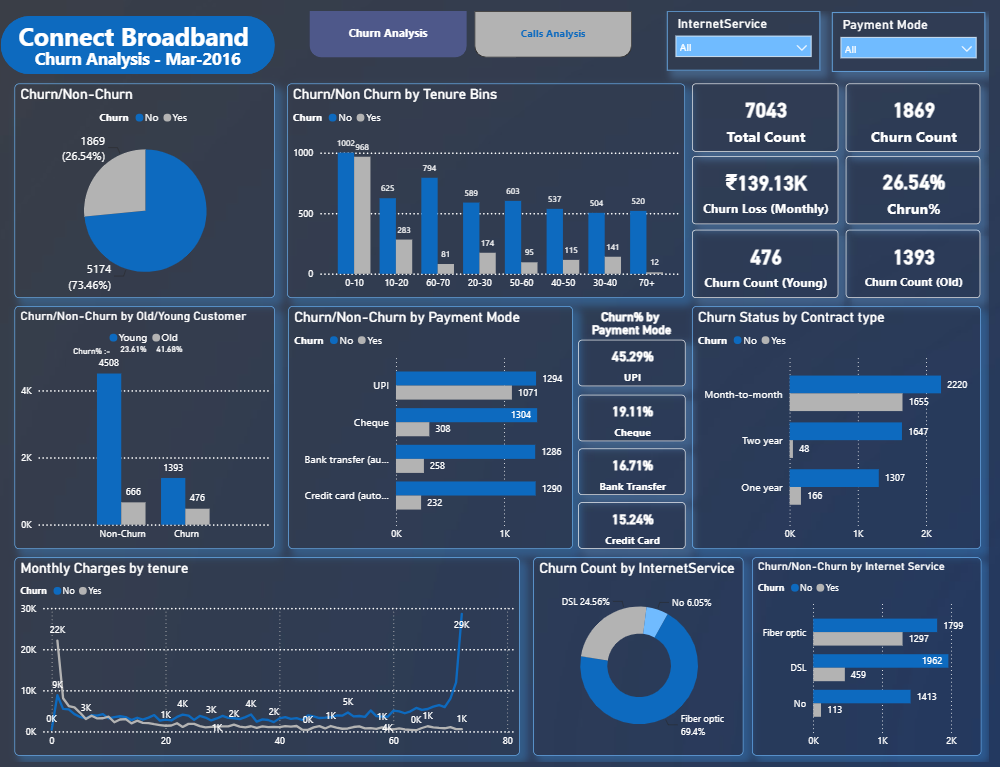

What the dashboard file says about the page in this screenshot:
{"tool":"powerbi","page":{"name":"Churn Analysis","canvas":[1280,970],"ordinal":0},"visuals":[{"type":"shape","box":[4.9,6.5,353.7,75],"z":0},{"type":"textbox","box":[23.1,6.6,347.6,59.3],"z":1000},{"type":"clusteredBarChart","fields":{"Category":["TelecomData.Contract"],"Y":["Measures_Churn.TotalCount"],"Series":["TelecomData.Churn"]},"box":[897.3,380.8,372.6,313.7],"z":2000},{"type":"clusteredColumnChart","title":"Churn/Non-Churn by Old/Young Customer","fields":{"Category":["TelecomData.Churn-Non_Churn"],"Y":["Measures_Churn.TotalCount"],"Series":["TelecomData.SeniorCitizen_"]},"box":[23.3,380.8,335.6,313.7],"z":3000},{"type":"clusteredBarChart","title":"Churn/Non-Churn by Payment Mode","fields":{"Category":["TelecomData.PaymentMethod"],"Series":["TelecomData.Churn"],"Y":["Measures_Churn.Churn/TotalValue"]},"box":[375.3,380.8,367.1,313.7],"z":4000},{"type":"clusteredColumnChart","title":"Churn/Non Churn by Tenure Bins","fields":{"Category":["TelecomData.Tenure_Bin"],"Series":["TelecomData.Churn"],"Y":["Measures_Churn.TotalCount"]},"box":[374.9,93.3,513.4,277.1],"z":5000},{"type":"pieChart","title":"Churn/Non-Churn","fields":{"Y":["Measures_Churn.TotalCount"],"Category":["TelecomData.Churn"]},"box":[22.8,93.3,335.8,277.1],"z":6000},{"type":"slicer","fields":{"Values":["TelecomData.InternetService"]},"box":[863.8,0,197.2,76.6],"z":7000},{"type":"slicer","fields":{"Values":["TelecomData.PaymentMethod"]},"box":[1077.4,1.6,197.2,76.6],"z":8000},{"type":"lineChart","title":"Monthly Charges by tenure","fields":{"Category":["TelecomData.tenure"],"Series":["TelecomData.Churn"],"Y":["Sum(TelecomData.MonthlyCharges)"]},"box":[22.8,704.1,652,255.9],"z":9000},{"type":"card","fields":{"Values":["Measures_Churn.Chrun%"]},"box":[146,423,59,32],"z":10000},{"type":"card","fields":{"Values":["Measures_Churn.Chrun%"]},"box":[195,423,55,32],"z":11000},{"type":"card","fields":{"Values":["Measures_Churn.ChurnText"]},"box":[76.5,423.5,96.3,32.1],"z":12000},{"type":"card","fields":{"Values":["Measures_Churn.TotalCount"]},"box":[897.3,93.2,189,88],"z":13000},{"type":"card","fields":{"Values":["Measures_Churn.Churn_Count"]},"box":[1095.9,93.2,174,88],"z":14000},{"type":"card","fields":{"Values":["Measures_Churn.ChurnMonthlyCharges"]},"box":[897.3,187.7,189,87.7],"z":15000},{"type":"card","fields":{"Values":["Measures_Churn.Churn_Count"]},"box":[897.3,282.2,189,87.7],"z":16000},{"type":"card","fields":{"Values":["Measures_Churn.Churn_Count"]},"box":[1095.9,282.2,174,87.7],"z":17000},{"type":"card","fields":{"Values":["Measures_Churn.Chrun%"]},"box":[1095.9,187.7,174,87.7],"z":18000},{"type":"card","fields":{"Values":["Measures_Churn.Chrun%"]},"box":[750.7,424.7,138.4,60.3],"z":19000},{"type":"card","fields":{"Values":["Measures_Churn.Churn%Text"]},"box":[750.7,374,138.4,58.9],"z":20000},{"type":"card","fields":{"Values":["Measures_Churn.Chrun%"]},"box":[750.7,494.5,138.4,60.3],"z":21000},{"type":"card","fields":{"Values":["Measures_Churn.Chrun%"]},"box":[750.7,564.4,138.4,60.3],"z":22000},{"type":"card","fields":{"Values":["Measures_Churn.Chrun%"]},"box":[750.7,634.2,138.4,60.3],"z":23000},{"type":"clusteredBarChart","title":"Churn/Non-Churn by Internet Service","fields":{"Y":["Measures_Churn.TotalCount"],"Series":["TelecomData.Churn"],"Category":["TelecomData.InternetService"]},"box":[974,704.1,295.9,256.2],"z":24000},{"type":"donutChart","fields":{"Category":["TelecomData.InternetService"],"Y":["Measures_Churn.Churn_Count"]},"box":[691.8,704.1,271.2,256.2],"z":25000},{"type":"pageNavigator","box":[404,0,416,60],"z":26000},{"type":"textbox","box":[42.8,41.2,332.8,46.1],"z":26001}]}

Visuals, with their boxes in screenshot pixels (x1, y1, x2, y2), scaled from the page's 1280x970 canvas onto the 1000x767 screenshot:
shape: Rect(4, 5, 280, 64)
textbox: Rect(18, 5, 290, 52)
clusteredBarChart - TelecomData.Contract x Measures_Churn.TotalCount: Rect(701, 301, 992, 549)
"Churn/Non-Churn by Old/Young Customer" clusteredColumnChart: Rect(18, 301, 280, 549)
"Churn/Non-Churn by Payment Mode" clusteredBarChart: Rect(293, 301, 580, 549)
"Churn/Non Churn by Tenure Bins" clusteredColumnChart: Rect(293, 74, 694, 293)
"Churn/Non-Churn" pieChart: Rect(18, 74, 280, 293)
slicer - TelecomData.InternetService: Rect(675, 0, 829, 61)
slicer - TelecomData.PaymentMethod: Rect(842, 1, 996, 62)
"Monthly Charges by tenure" lineChart: Rect(18, 557, 527, 759)
card - Measures_Churn.Chrun%: Rect(114, 334, 160, 360)
card - Measures_Churn.Chrun%: Rect(152, 334, 195, 360)
card - Measures_Churn.ChurnText: Rect(60, 335, 135, 360)
card - Measures_Churn.TotalCount: Rect(701, 74, 849, 143)
card - Measures_Churn.Churn_Count: Rect(856, 74, 992, 143)
card - Measures_Churn.ChurnMonthlyCharges: Rect(701, 148, 849, 218)
card - Measures_Churn.Churn_Count: Rect(701, 223, 849, 292)
card - Measures_Churn.Churn_Count: Rect(856, 223, 992, 292)
card - Measures_Churn.Chrun%: Rect(856, 148, 992, 218)
card - Measures_Churn.Chrun%: Rect(586, 336, 695, 384)
card - Measures_Churn.Churn%Text: Rect(586, 296, 695, 342)
card - Measures_Churn.Chrun%: Rect(586, 391, 695, 439)
card - Measures_Churn.Chrun%: Rect(586, 446, 695, 494)
card - Measures_Churn.Chrun%: Rect(586, 501, 695, 549)
"Churn/Non-Churn by Internet Service" clusteredBarChart: Rect(761, 557, 992, 759)
donutChart - TelecomData.InternetService x Measures_Churn.Churn_Count: Rect(540, 557, 752, 759)
pageNavigator: Rect(316, 0, 641, 47)
textbox: Rect(33, 33, 293, 69)
